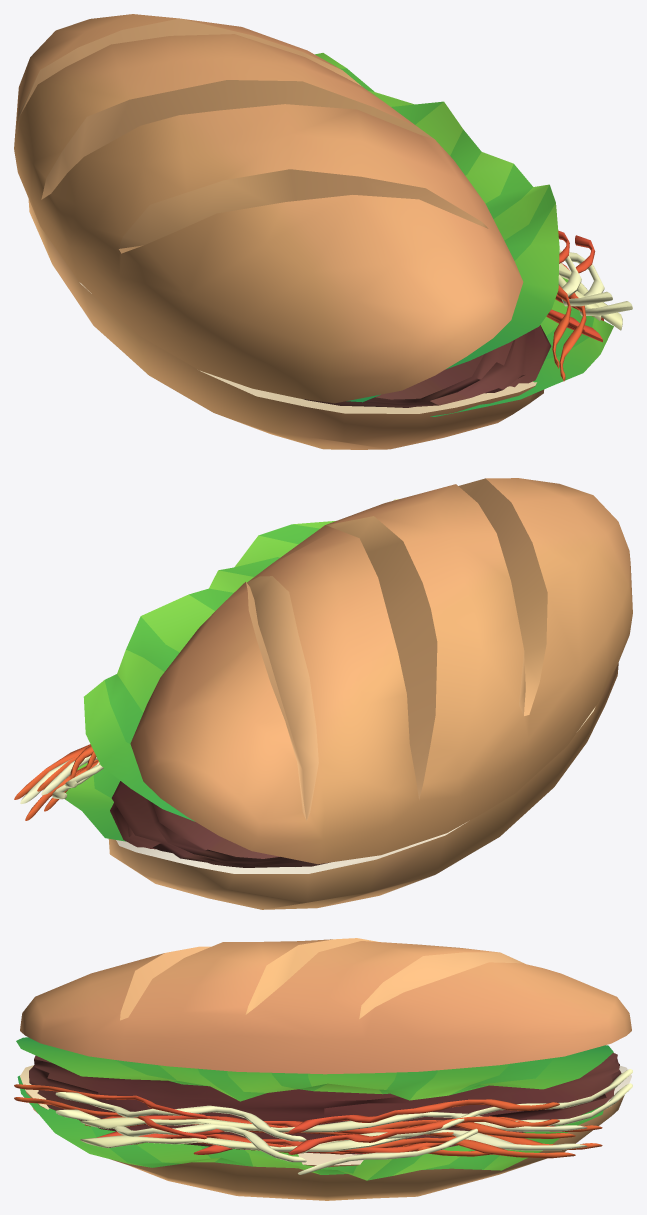
Rendered from BM_Pate.fbx.
The picture shows the model from 3 angles, top to bottom: view 1: azimuth 30°, elevation 25°; view 2: azimuth 150°, elevation 25°; view 3: azimuth 270°, elevation 25°; orthographic projection. The views are drawn at different scales.
Parts seen in each view (by area): view 1: BM_Pate_Variant; view 2: BM_Pate_Variant; view 3: BM_Pate_Variant.
Part boxes in pixels (<box>): BM_Pate_Variant: <box>14,14,632,449</box>; BM_Pate_Variant: <box>14,478,632,909</box>; BM_Pate_Variant: <box>14,938,632,1200</box>.
Size of the model in its own units: 158 by 117 by 288.
